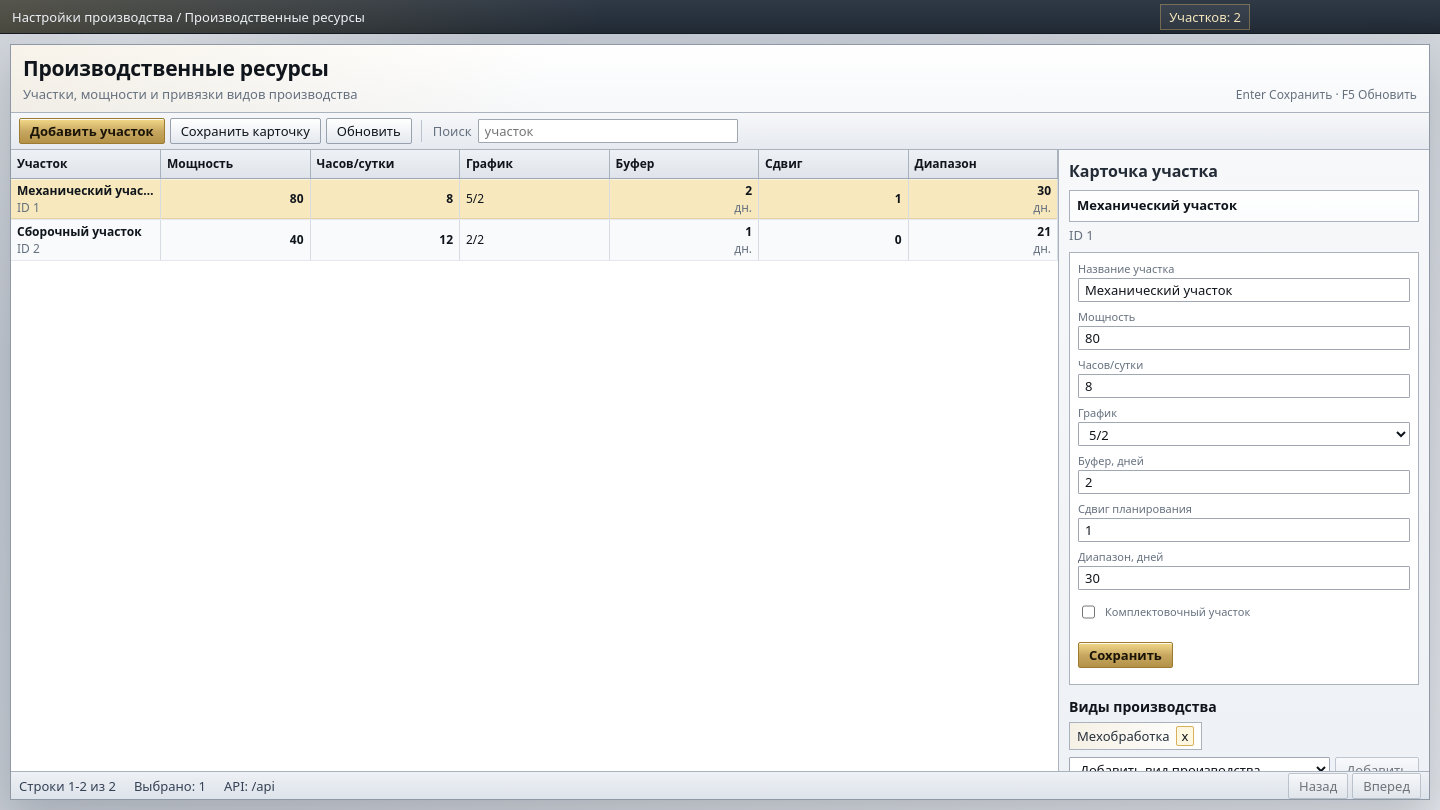
Test: ResourcesPage characterization › updates the selected resource from the editable card
The width and height of the screenshot is (1440, 810).
Click the text "Сборочный участок": {"x": 86, "y": 231} [17,222,154,240]
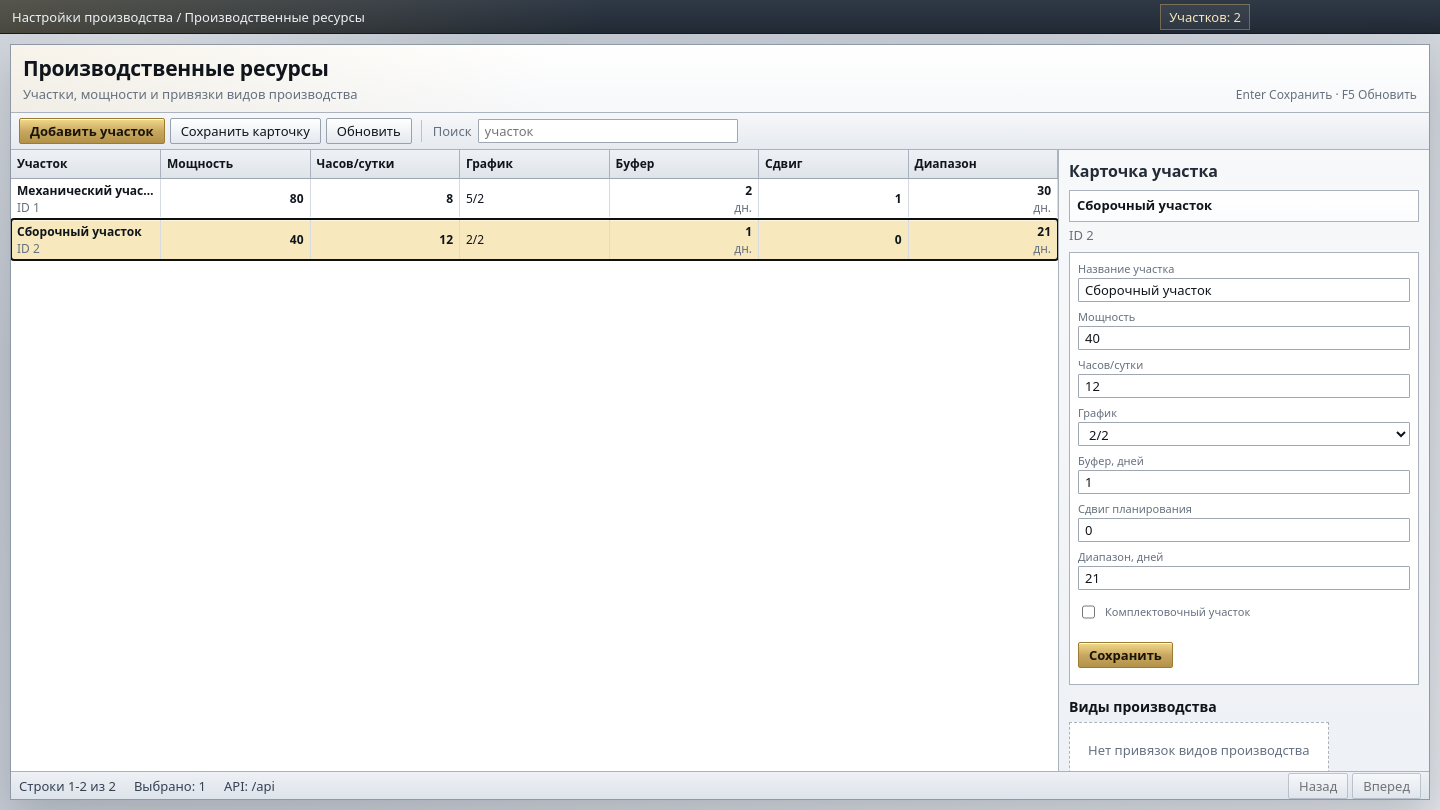
Replace the text in the field labelled "Название участка" with "Сборка и упаковка": {"x": 1244, "y": 290} [1078,278,1410,302]
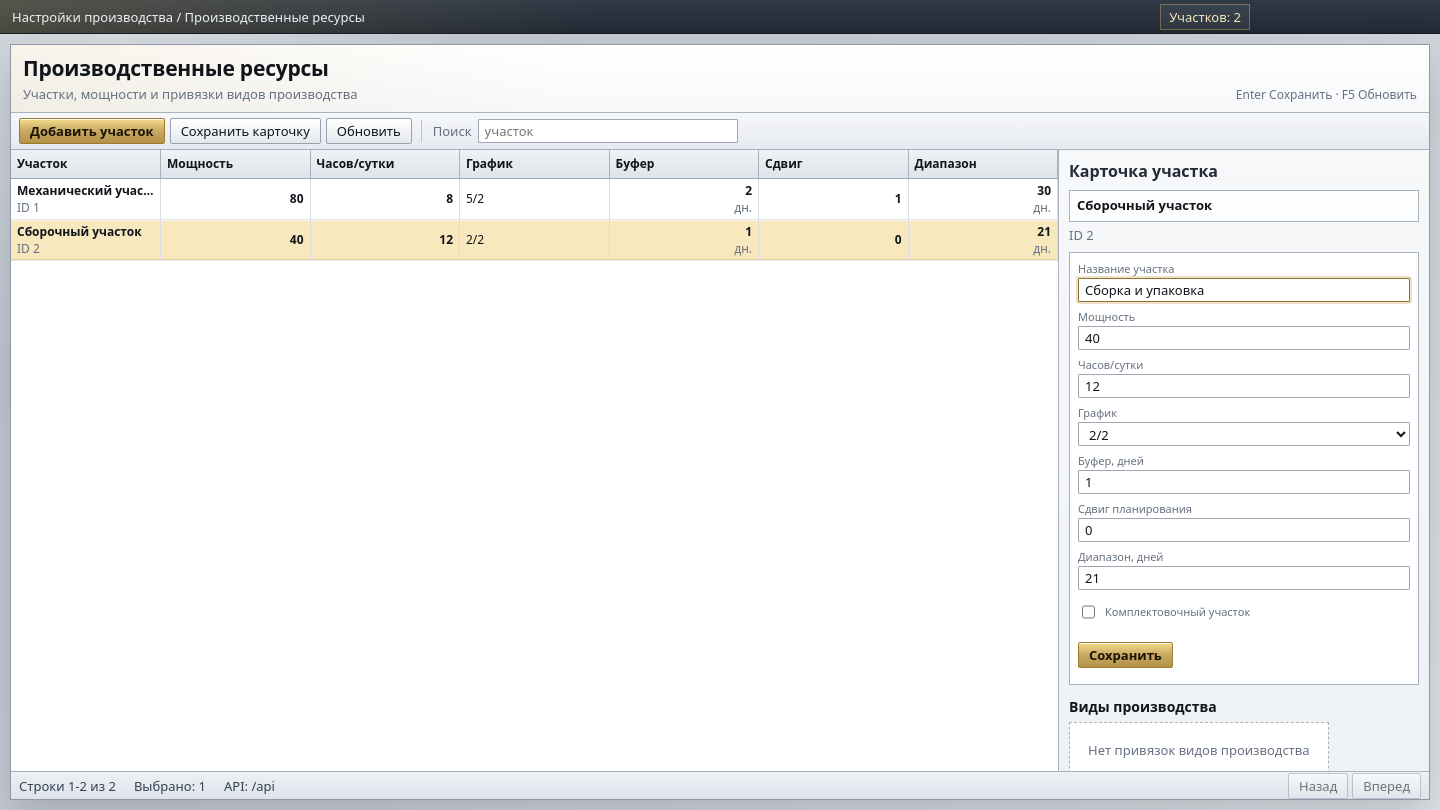
Click the button "Сохранить карточку": {"x": 245, "y": 131} [170,118,321,144]
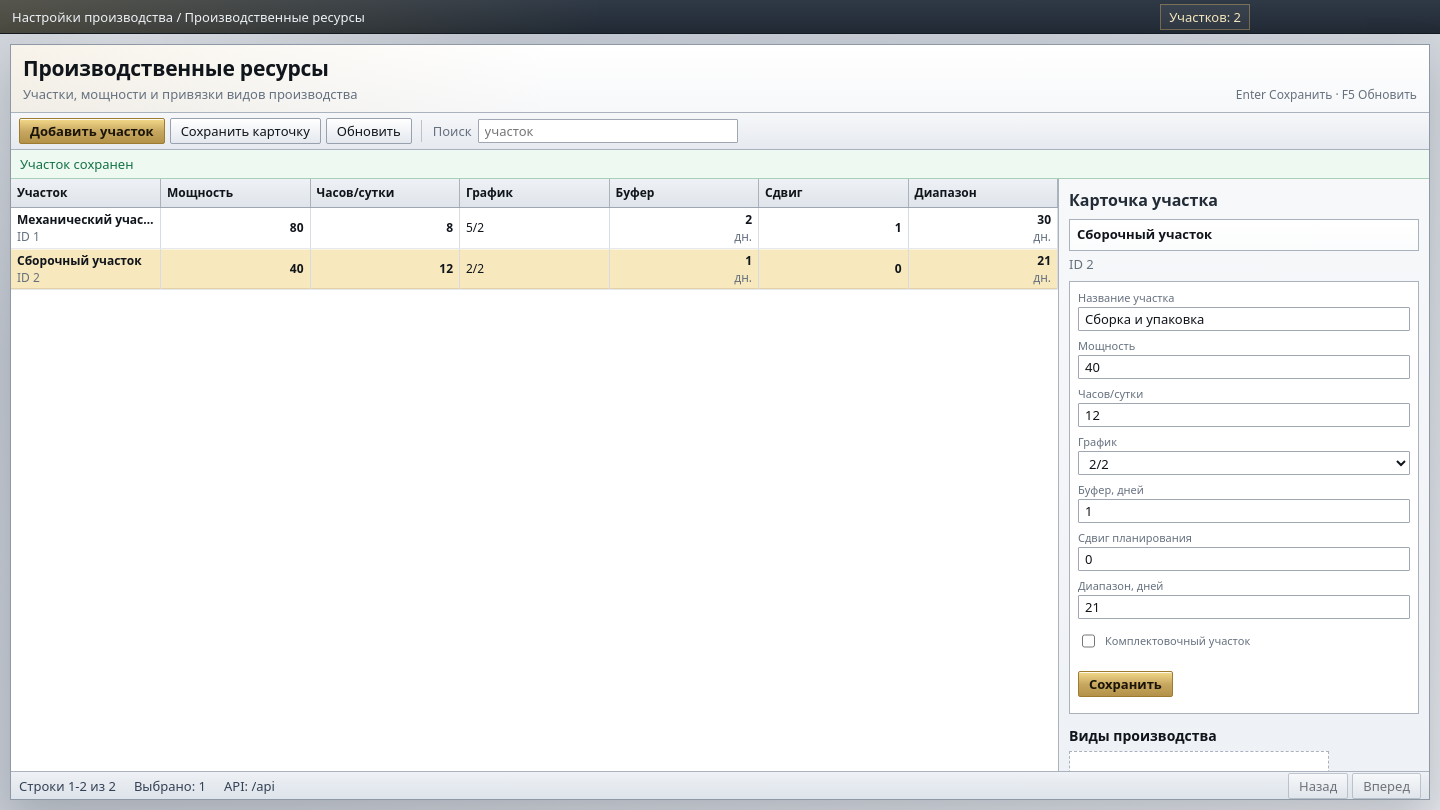
Expected: the text "Участок сохранен" is shown, [11,150,1429,179]
